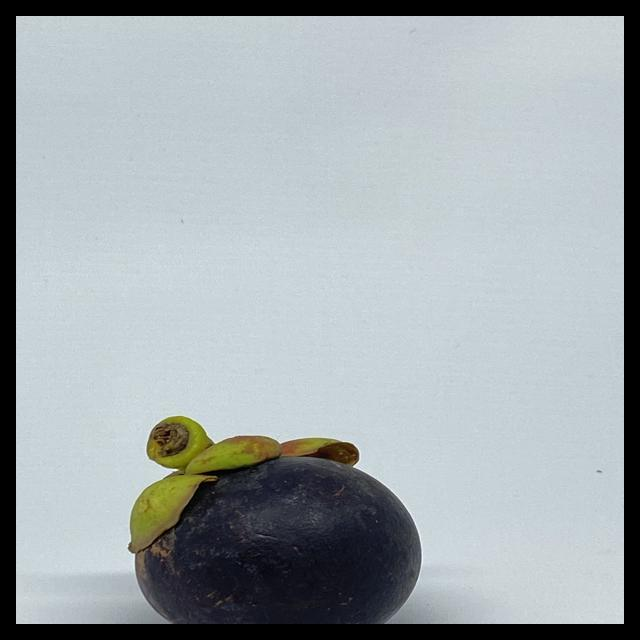mangosteen: (93, 400, 429, 624)
